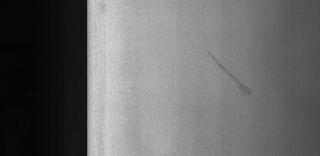water spot: (203, 48, 265, 102)
